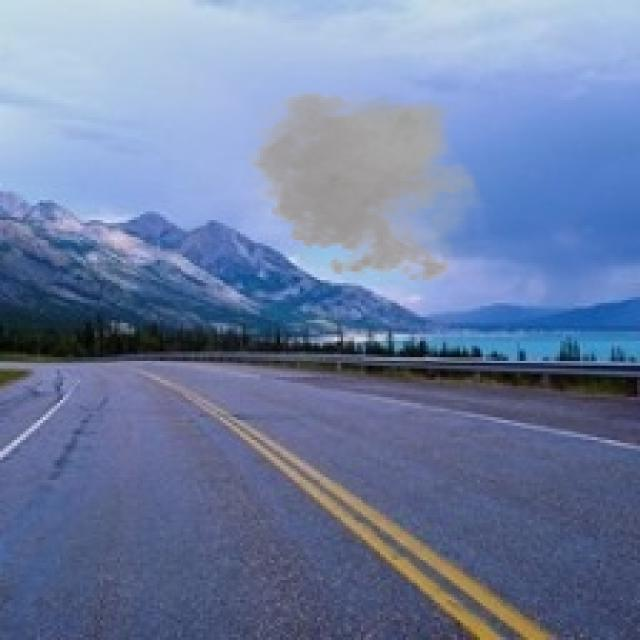smoke: (237, 83, 492, 288)
